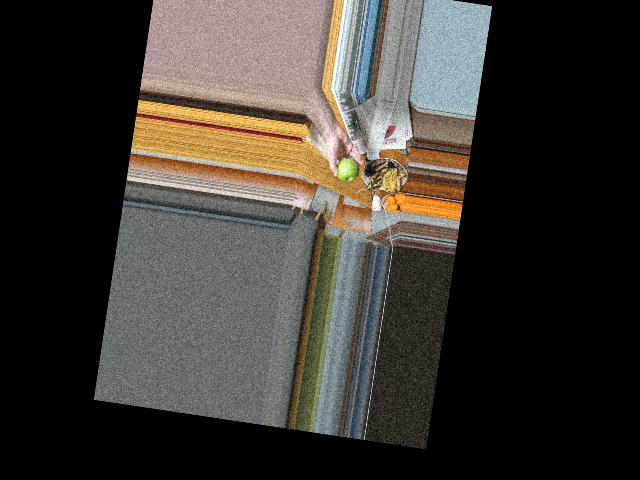apple: (334, 158, 359, 184)
